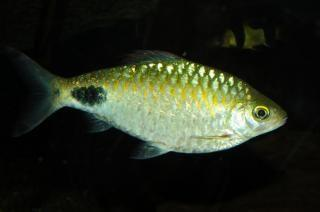Black Spotted Barb: (10, 46, 289, 163)
